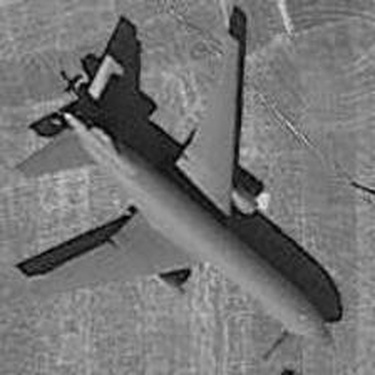airplane: (14, 13, 340, 356)
